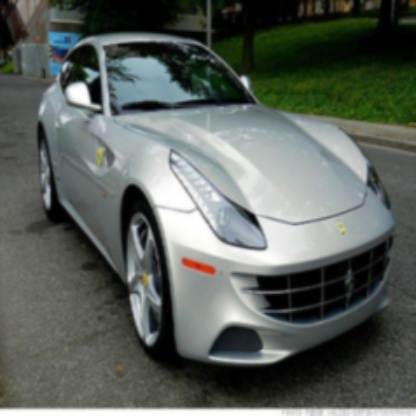Vehicle: (35, 29, 398, 380)
